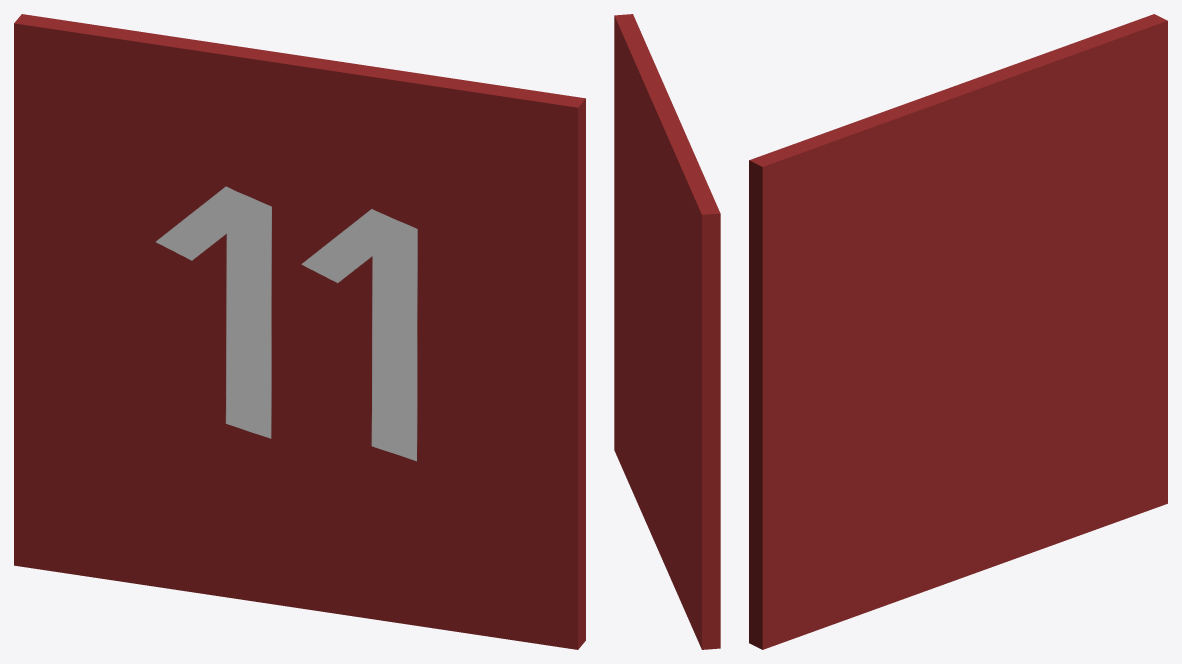
File: flap10.glb
3 renders of one model, left to right at view 1: azimuth 30°, elevation 25°; view 2: azimuth 150°, elevation 25°; view 3: azimuth 270°, elevation 25°, orthographic. The views are drawn at different scales.
Parts seen in each view (by area): view 1: flap.010; view 2: flap.010; view 3: flap.010.
Part boxes in pixels (x1,y1,x2,y2): flap.010: (14,14,585,649); flap.010: (614,14,720,649); flap.010: (749,14,1167,649).
Size of the model in its own units: 0.1699 by 0.25 by 0.1965.
Materials: 1 (1 with a texture image).
